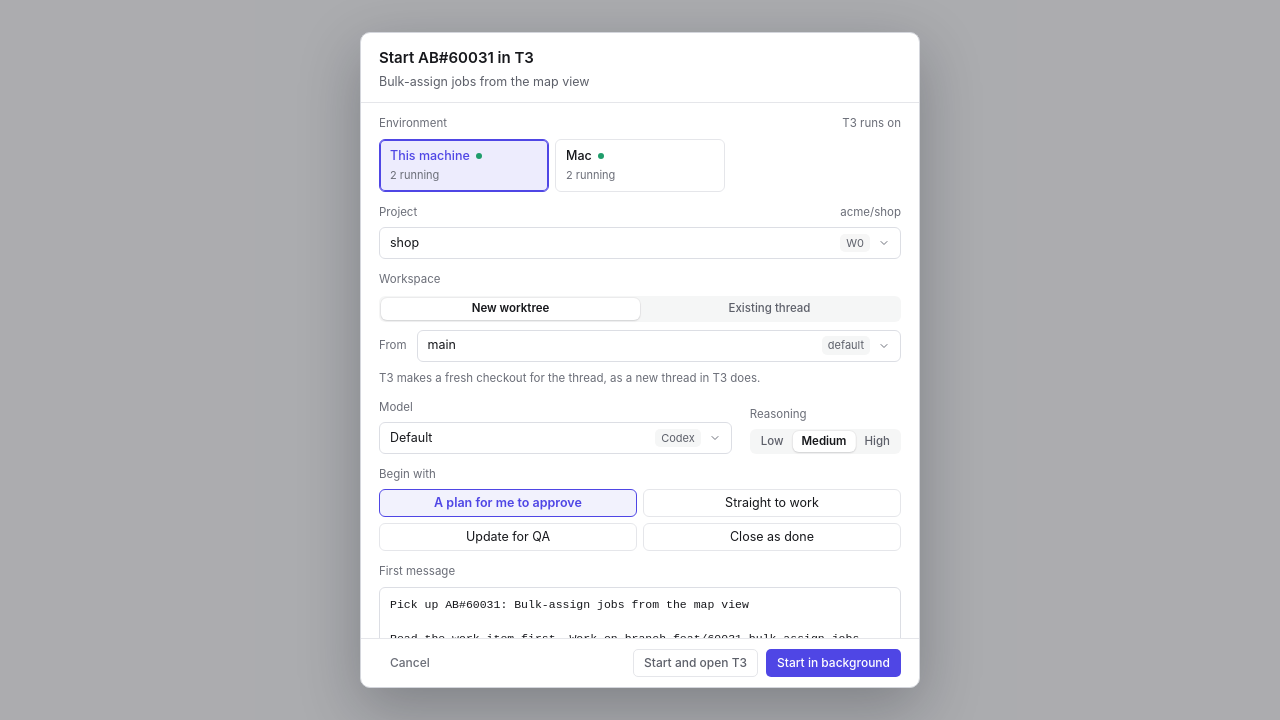
Test: LaunchSheet › starts a thread still at work only next to it, in its checkout
The width and height of the screenshot is (1280, 720).
expect the button with aria-label "Model" is enabled: met, box [379,422,732,454]
Click the button "Existing thread" at (770, 309), box [640,298,899,320]
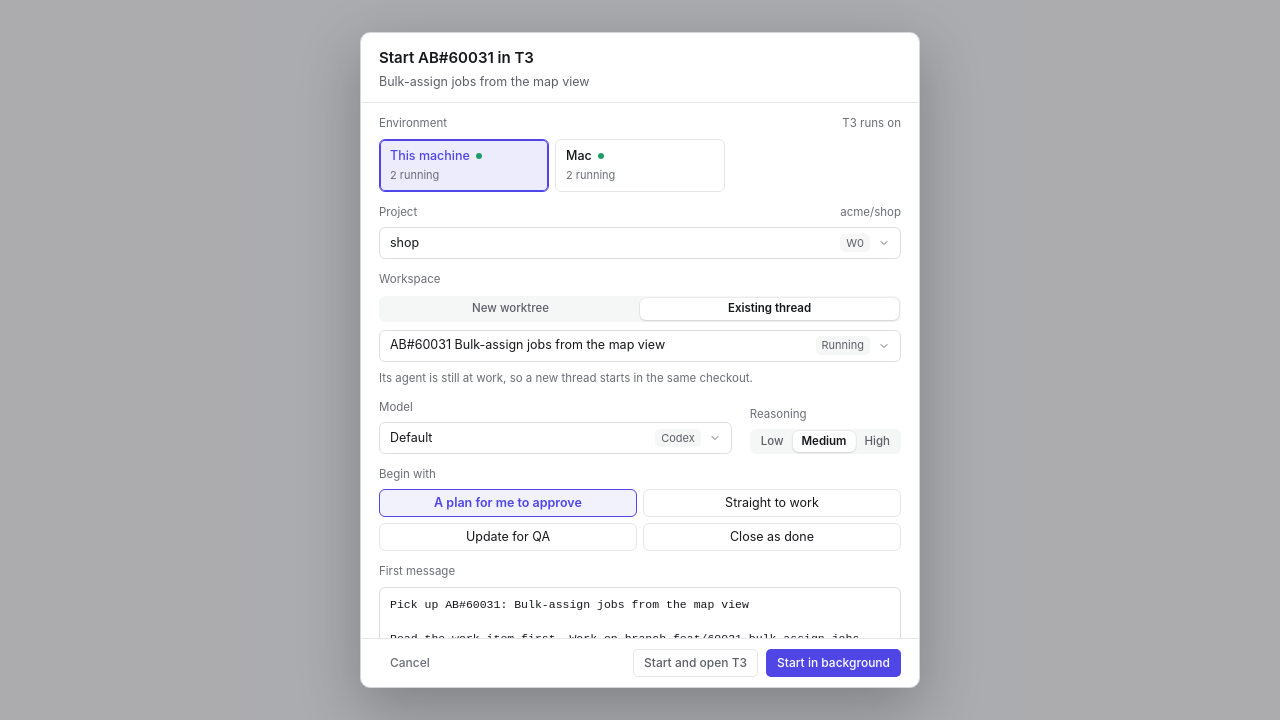
expect the button with aria-label "Thread" shows "AB#60031": met, box [379,330,901,362]
expect the text "still at work, so a new thread starts" is shown: met, box [379,370,753,384]
